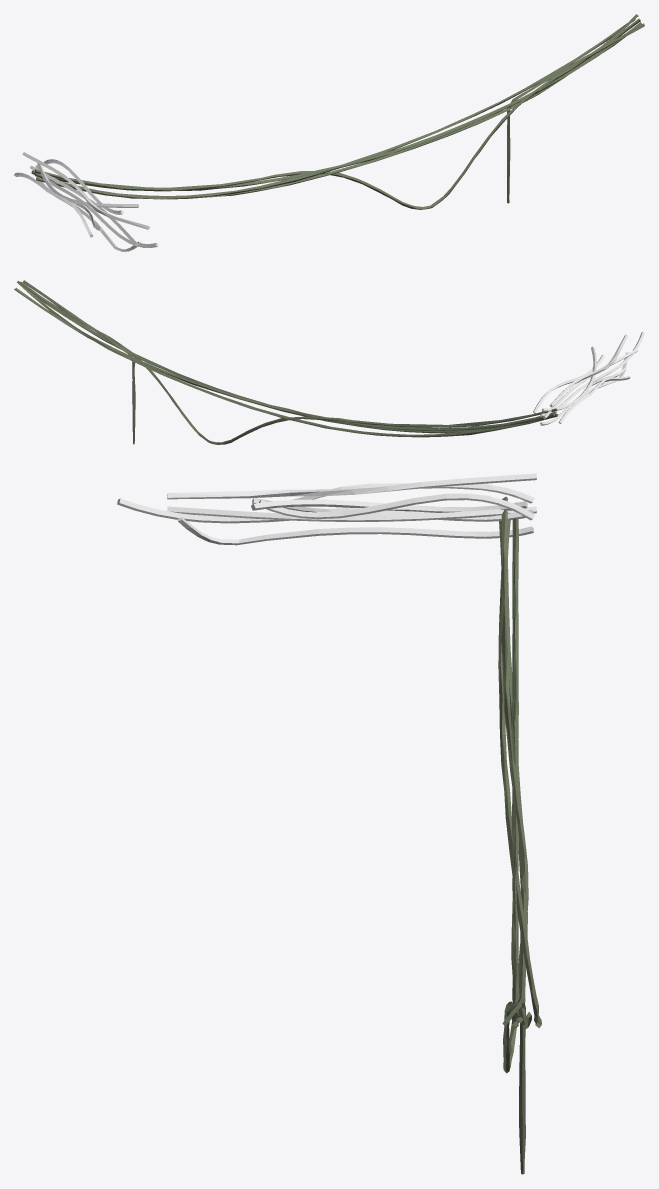
The model's file is Vines.fbx.
The picture shows the model from 3 angles, top to bottom: view 1: azimuth 30°, elevation 25°; view 2: azimuth 150°, elevation 25°; view 3: azimuth 270°, elevation 25°; orthographic projection. The views are drawn at different scales.
Parts seen in each view (by area): view 1: Vines 1, Vines 2, Hanging Vines 2, Hanging Vines 1; view 2: Vines 1, Vines 2, Hanging Vines 2, Hanging Vines 1; view 3: Hanging Vines 2, Hanging Vines 1, Vines 2, Vines 1.
Part boxes in pixels (bbox=[...]): Vines 1: bbox=[31, 14, 638, 199]; Vines 2: bbox=[31, 18, 644, 209]; Hanging Vines 2: bbox=[14, 152, 150, 251]; Hanging Vines 1: bbox=[30, 159, 158, 247]; Vines 1: bbox=[14, 281, 558, 437]; Vines 2: bbox=[20, 280, 557, 444]; Hanging Vines 2: bbox=[540, 334, 630, 425]; Hanging Vines 1: bbox=[533, 332, 644, 419]; Hanging Vines 2: bbox=[167, 473, 536, 545]; Hanging Vines 1: bbox=[117, 493, 536, 523]; Vines 2: bbox=[501, 496, 528, 1174]; Vines 1: bbox=[498, 502, 541, 1028].
Bounding box in the file's own units: 822 × 208 × 276.
